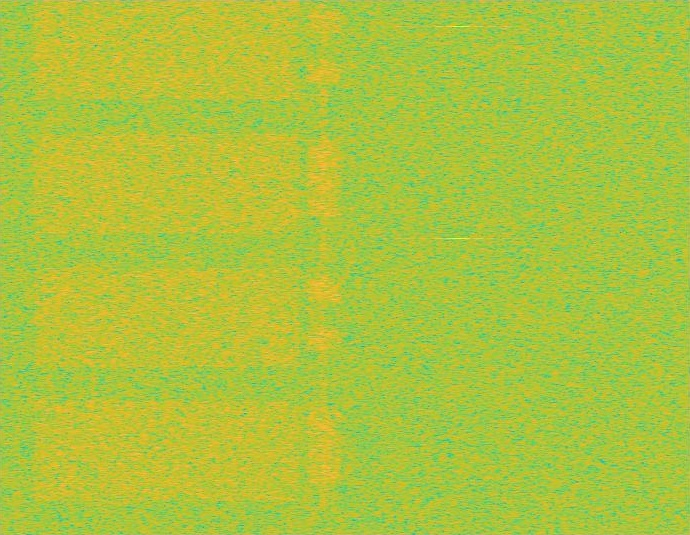5G: (29, 0, 305, 534)
DSSS: (320, 0, 328, 534)
LTE: (307, 0, 341, 534)
Radar: (452, 0, 466, 534)
